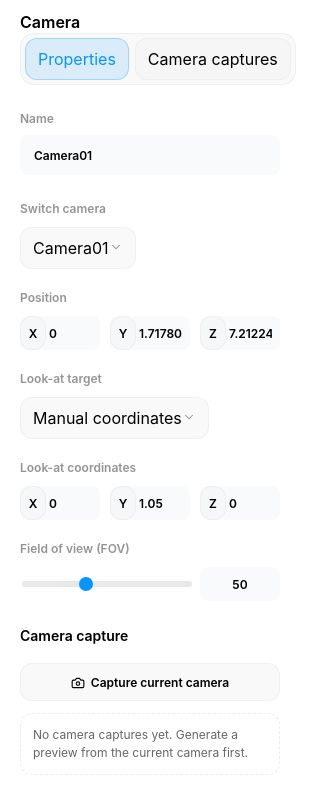
it: lists visible viewport models as camera focus targets and centers on the selected model
Click the button with aria-label "Look-at target mode": (114, 418) [20,397,209,439]
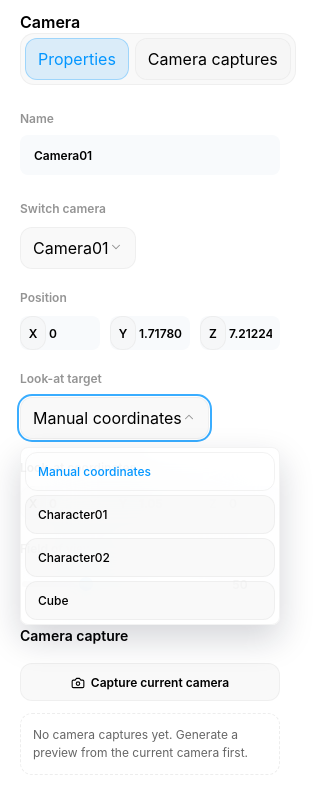
Now the options read "Manual coordinates", "Character01", "Character02", "Cube", in this order
Click the option "Character02": (150, 558) [25,538,275,577]
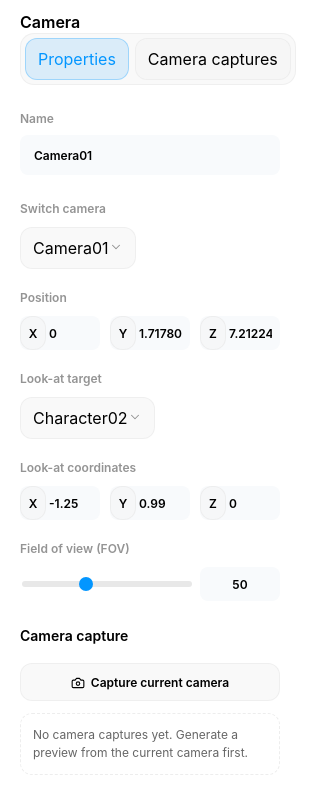
Now the button with aria-label "Look-at target mode" reads "Character02", box [20,397,155,439]
Now the number field named "Look-at coordinate X" holds "-1.25", box [43,486,100,520]
Now the number field named "Look-at coordinate Y" holds "0.99", box [133,486,190,520]
